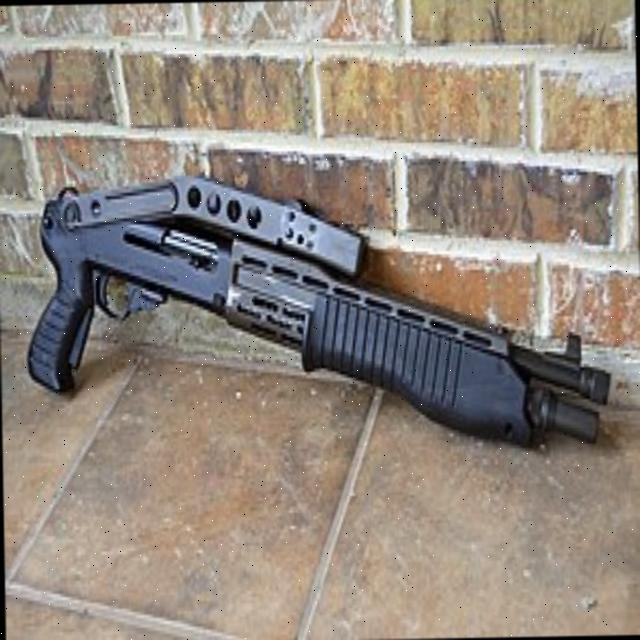Shotgun: (36, 132, 614, 500)
